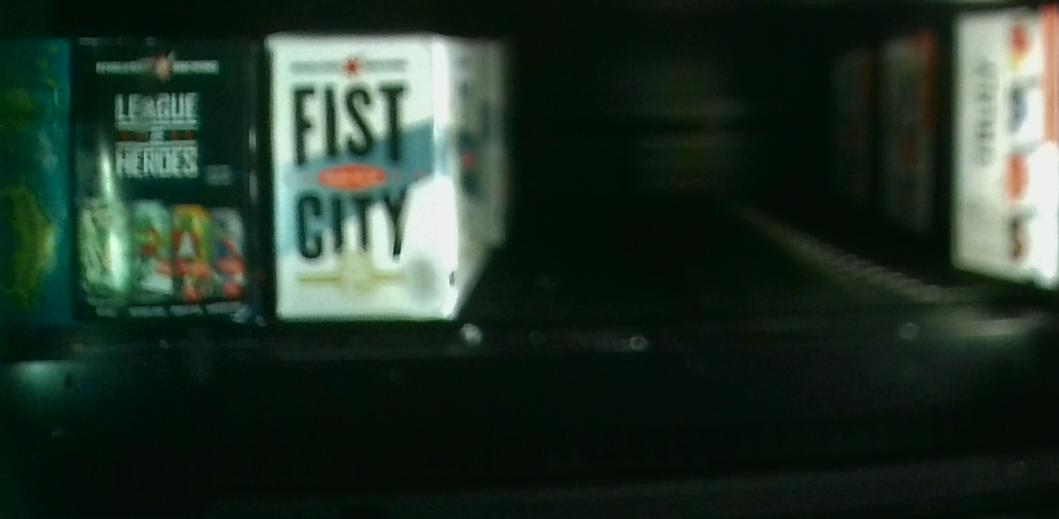bottle: (272, 29, 502, 311), (73, 31, 272, 324), (1, 33, 73, 337)
